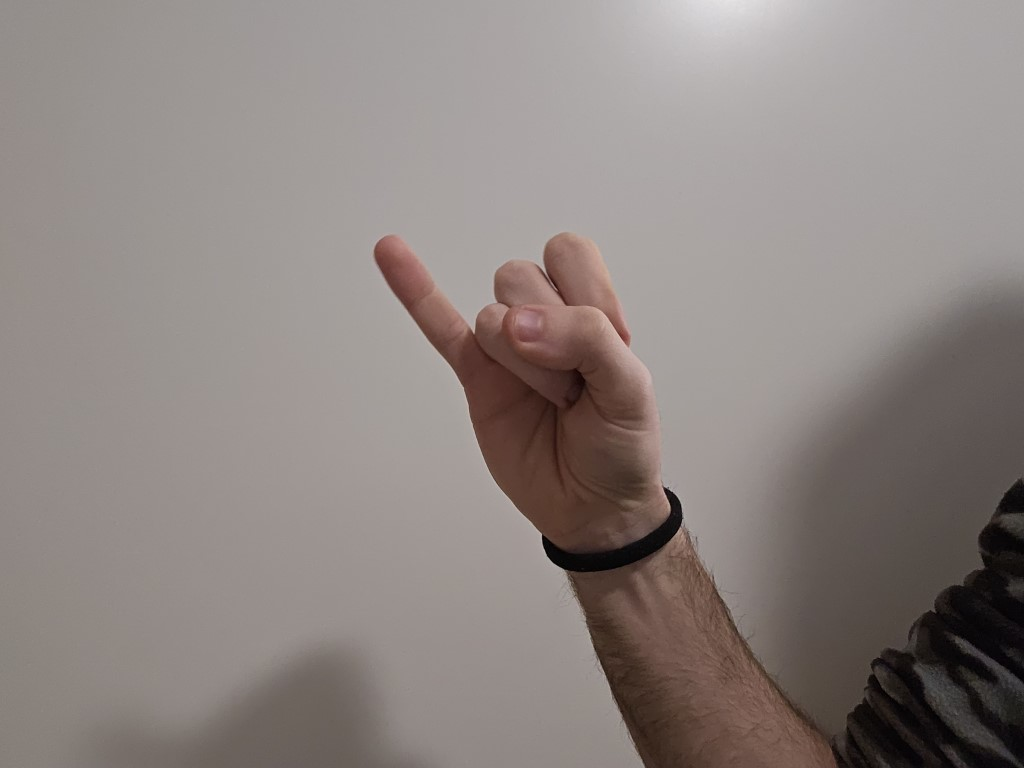j: (330, 211, 680, 527)
